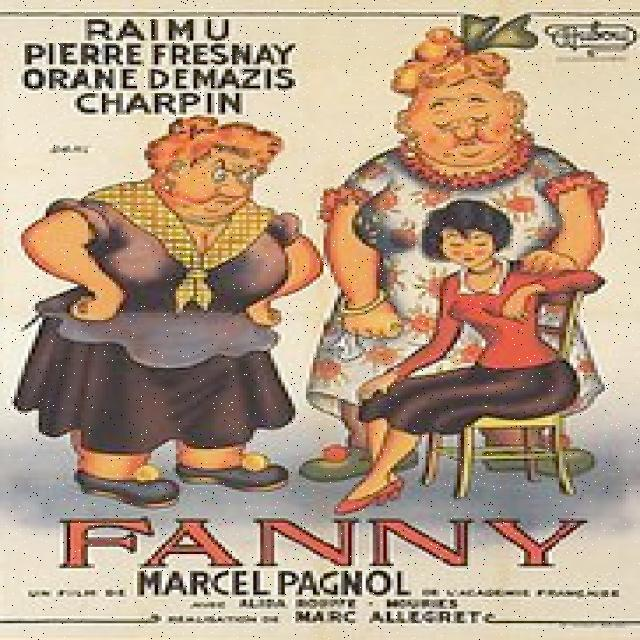movie-judul: (45, 508, 590, 576)
picture: (316, 21, 612, 499), (34, 119, 296, 503)
